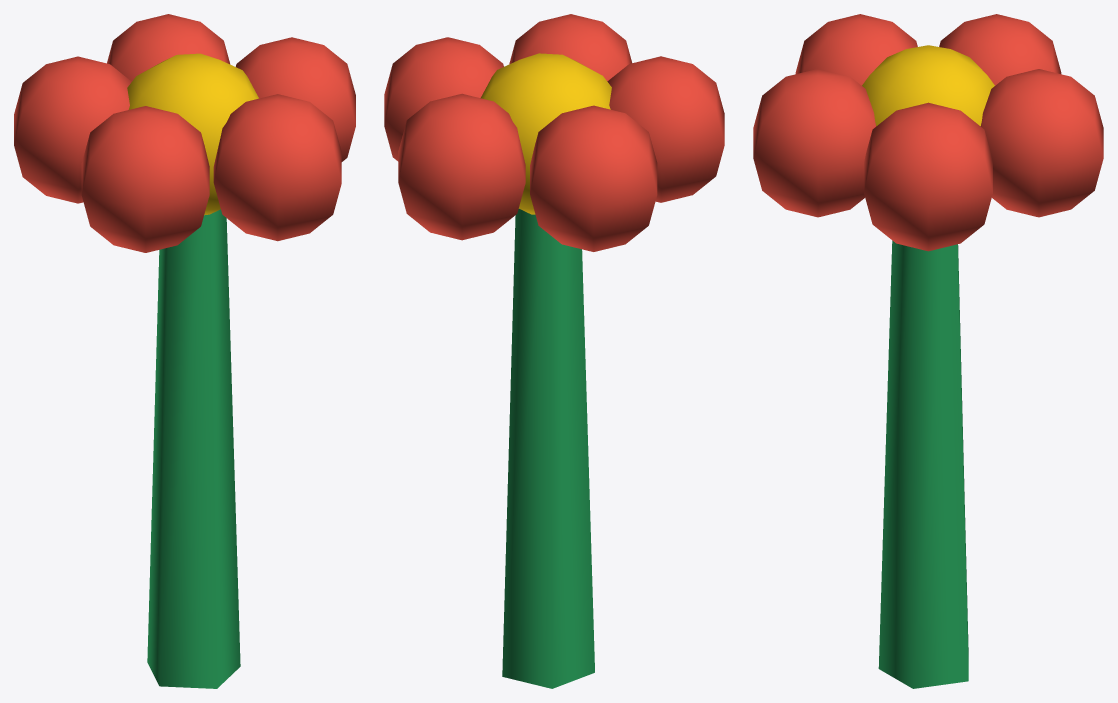
The model's file is flower_redA.glb.
3 views of the same model, side by side, from view 1: azimuth 30°, elevation 25°; view 2: azimuth 150°, elevation 25°; view 3: azimuth 270°, elevation 25° (orthographic).
Parts seen in each view (by area): view 1: Kenney_Flower_RedA; view 2: Kenney_Flower_RedA; view 3: Kenney_Flower_RedA.
Part boxes in pixels (x1,y1,x2,y2): Kenney_Flower_RedA: (14,14,355,688); Kenney_Flower_RedA: (384,14,724,688); Kenney_Flower_RedA: (753,14,1103,688).
Size of the model in its own units: 0.2166 by 0.41 by 0.2111.
